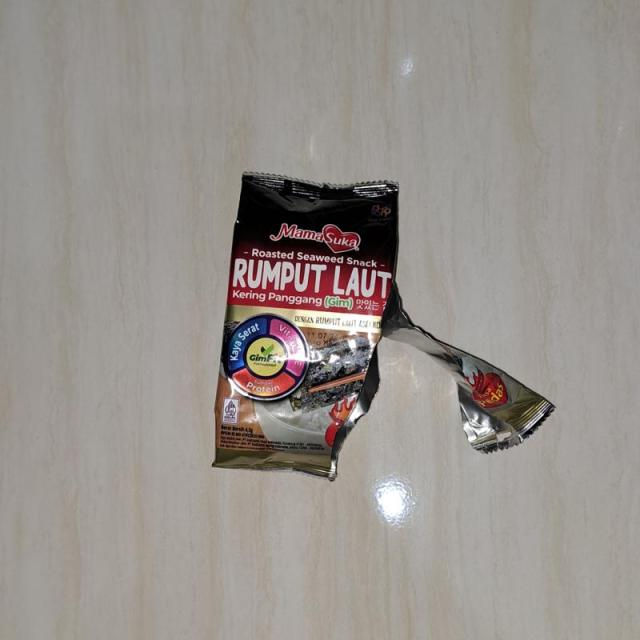Anorganik: (211, 151, 571, 507)
